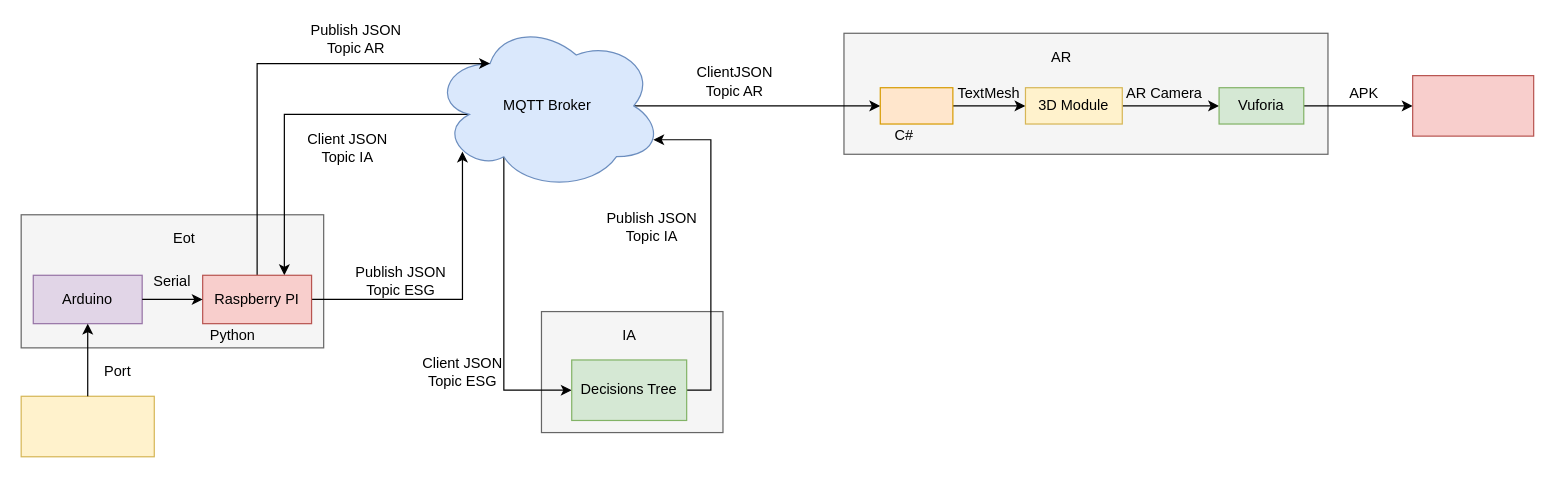
Image size: 1555x478. Some labels were removed from this diagram. Here are the shapes that lost their labels. From the top down, the centre of each, then its label:
the point at 916,105: Script
the point at 1472,105: Camera and Screen
the point at 87,426: Modulo ECG AD8232
